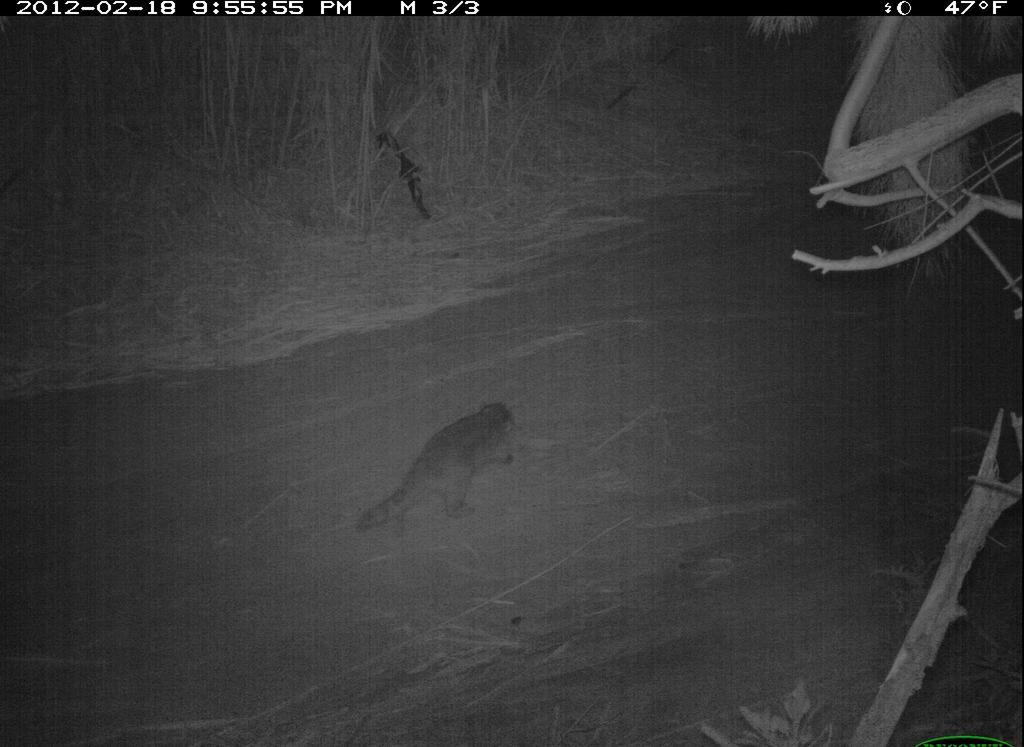raccoon: (344, 387, 529, 561)
